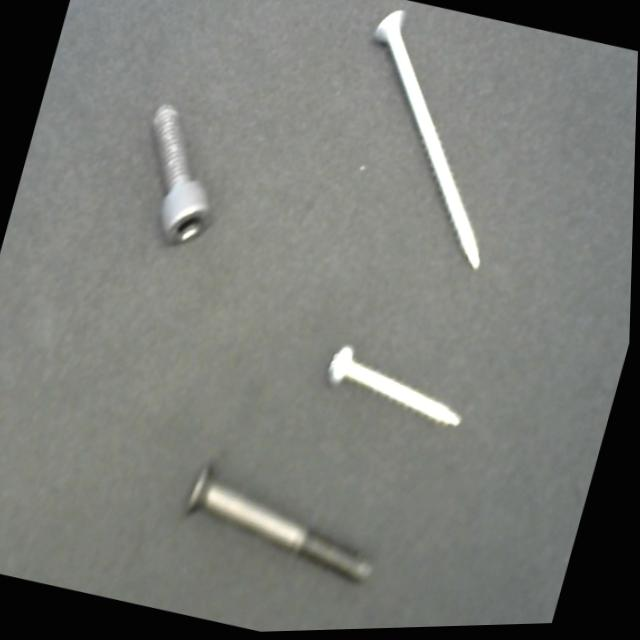FlatHeadSocketScrew: (165, 443, 406, 609)
SheetMetalScrew: (308, 317, 492, 459)
SocketHeadCapScrew: (111, 90, 247, 268)
WoodScrew: (305, 0, 555, 298)
